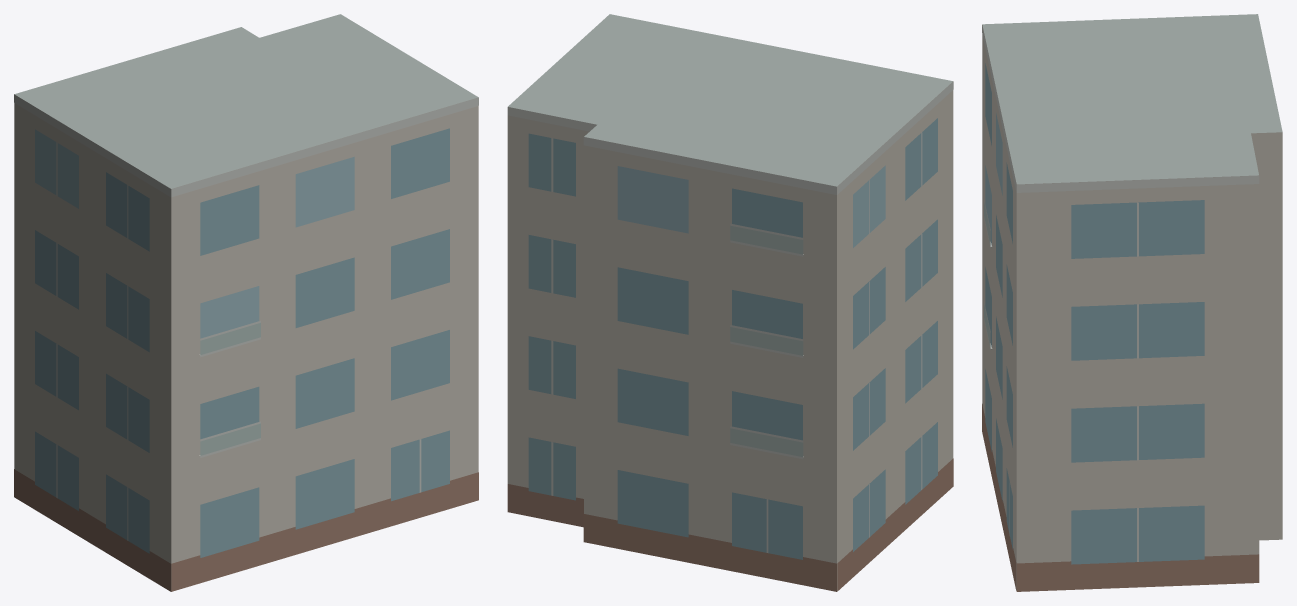
The model's file is survey-upis-32723398.glb.
3 views of the same model, side by side, from view 1: azimuth 30°, elevation 25°; view 2: azimuth 150°, elevation 25°; view 3: azimuth 270°, elevation 25° (orthographic).
Visible parts, largest first — view 1: survey-upis-32723398.tmp; view 2: survey-upis-32723398.tmp; view 3: survey-upis-32723398.tmp.
Boxes of the visible parts, bbox=[...] form: survey-upis-32723398.tmp: bbox=[14, 14, 478, 591]; survey-upis-32723398.tmp: bbox=[507, 14, 953, 591]; survey-upis-32723398.tmp: bbox=[982, 14, 1282, 591].
Bounding box in the file's own units: 10.42 × 11.6 × 7.76.
